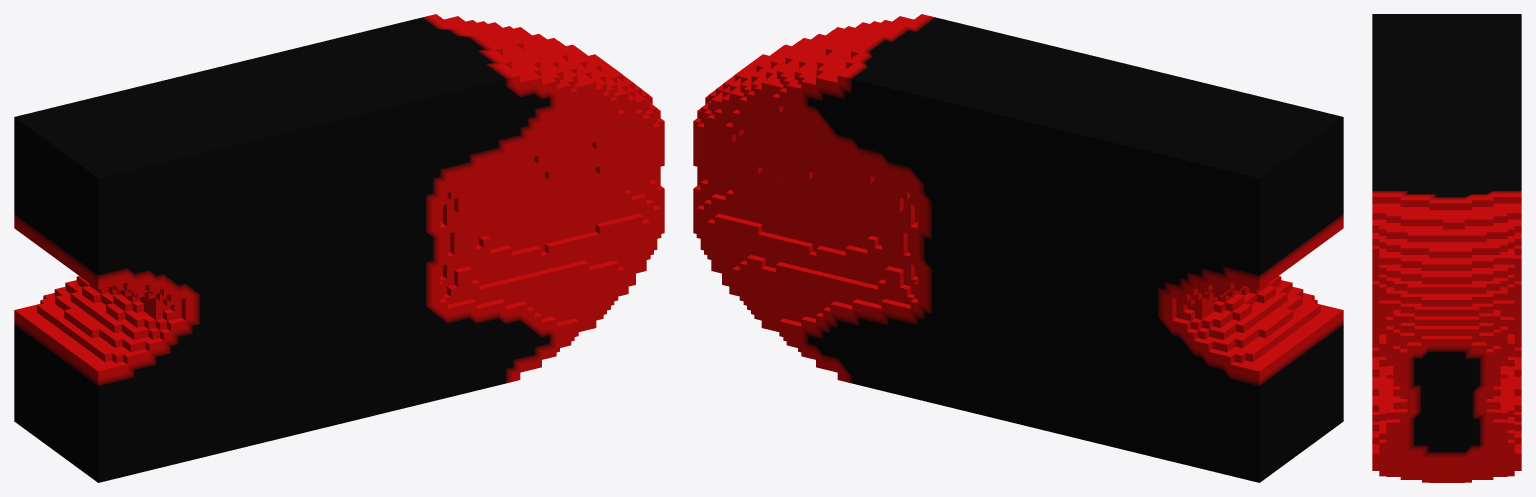
File: Cant1-13_c.obj
3 renders of one model, left to right at view 1: azimuth 30°, elevation 25°; view 2: azimuth 150°, elevation 25°; view 3: azimuth 270°, elevation 25°, orthographic. The views are drawn at different scales.
Bounding box in the file's own units: 80 × 40 × 20.
